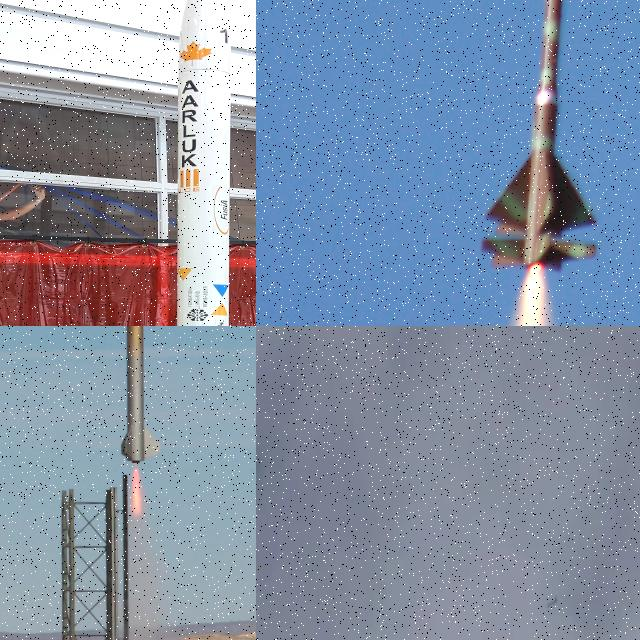Rocket: (479, 0, 600, 274), (176, 0, 231, 326), (118, 326, 162, 464), (547, 597, 557, 608)
